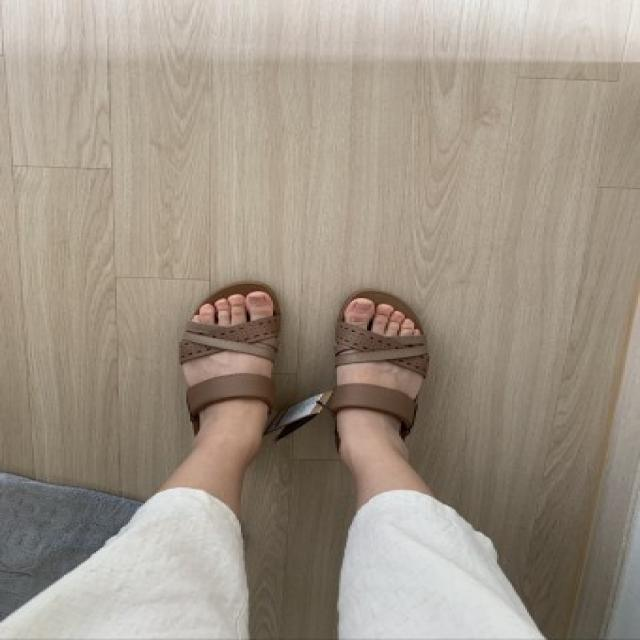no-boots: (143, 276, 292, 460), (331, 278, 431, 472)
